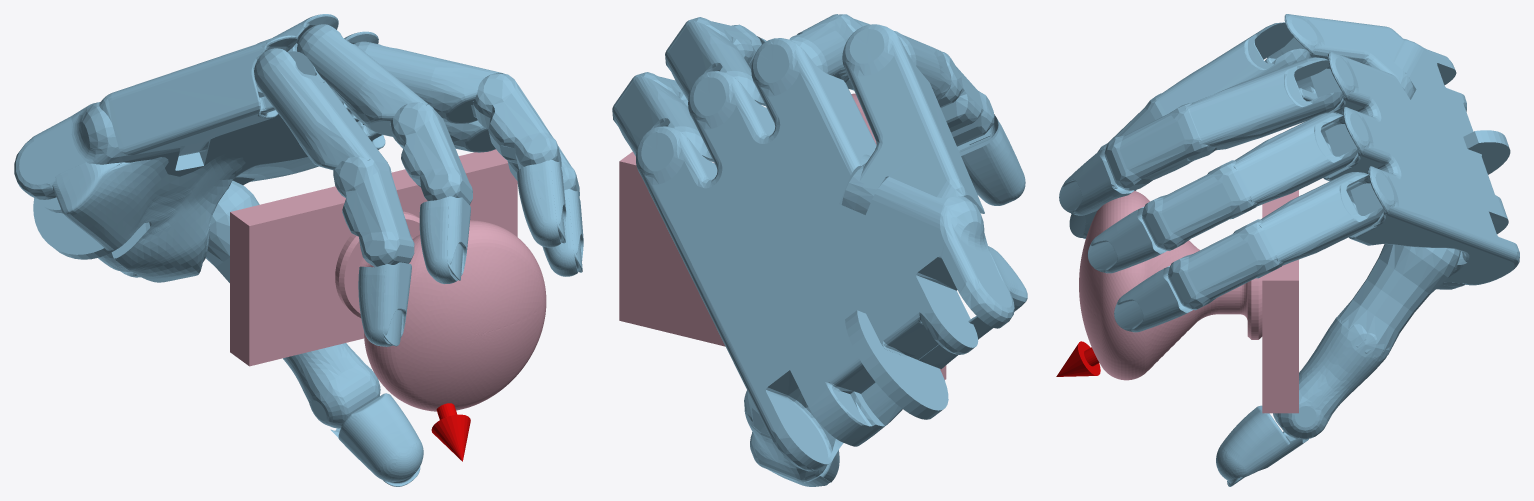
3 views of the same model, side by side, from view 1: azimuth 30°, elevation 25°; view 2: azimuth 150°, elevation 25°; view 3: azimuth 270°, elevation 25° (orthographic). The views are drawn at different scales.
Parts seen in each view (by area): view 1: world, door_knob.stl; view 2: world, door_knob.stl; view 3: world, door_knob.stl.
Boxes of the visible parts, x1,y1,x2,y2 form: world: (14,14,583,486); door_knob.stl: (230,149,546,411); world: (612,14,1027,486); door_knob.stl: (619,93,946,379); world: (1056,14,1519,486); door_knob.stl: (1079,190,1298,413).
Bounding box in the file's own units: 0.1629 × 0.1599 × 0.1581.
